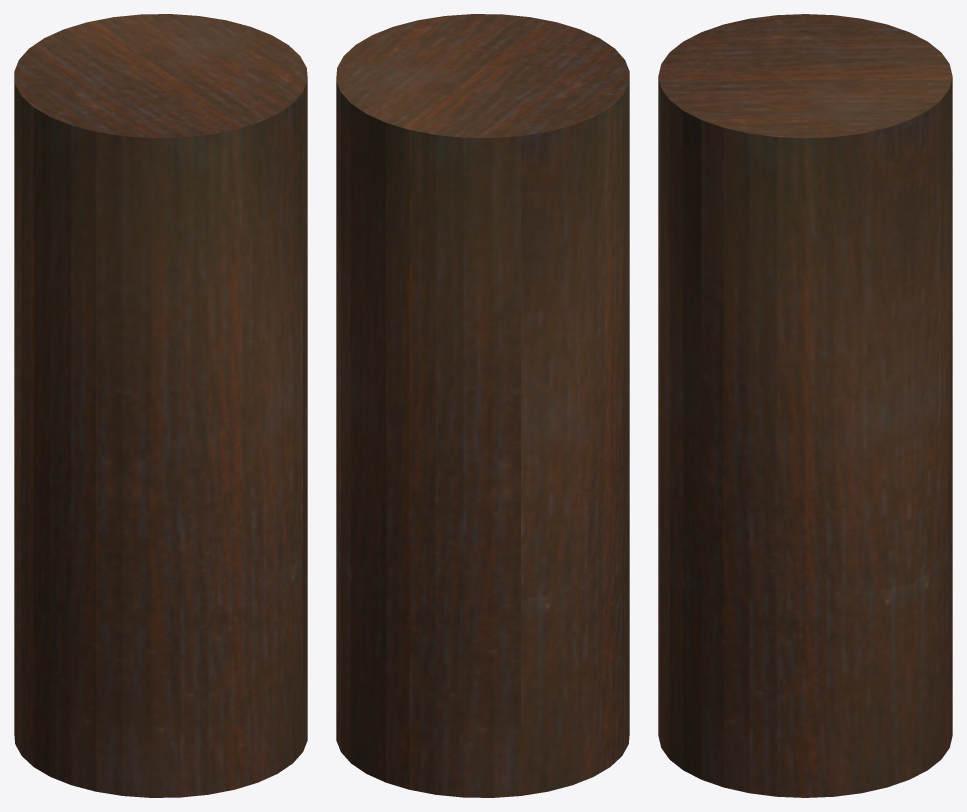
File: firewood.dae
3 renders of one model, left to right at view 1: azimuth 30°, elevation 25°; view 2: azimuth 150°, elevation 25°; view 3: azimuth 270°, elevation 25°, orthographic.
Parts seen in each view (by area): view 1: Firewood; view 2: Firewood; view 3: Firewood.
Boxes of the visible parts, <box> form: Firewood: <box>14,14,307,797</box>; Firewood: <box>336,14,629,797</box>; Firewood: <box>658,14,952,797</box>.
Size of the model in its own units: 0.4941 by 0.4941 by 1.22.
Materials: 1 (1 with a texture image).
